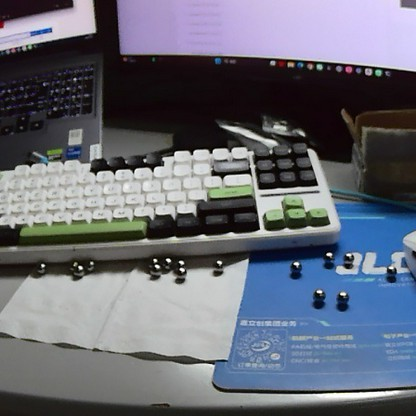ironball: (303, 284, 327, 306), (26, 256, 48, 276), (68, 259, 88, 281), (283, 259, 308, 276), (381, 263, 399, 284), (318, 245, 335, 267), (172, 264, 192, 282), (208, 256, 228, 273), (82, 253, 98, 273), (63, 252, 80, 270), (335, 286, 351, 305), (336, 249, 355, 264), (159, 253, 173, 269), (146, 262, 160, 276), (174, 255, 184, 268), (147, 255, 159, 265)
